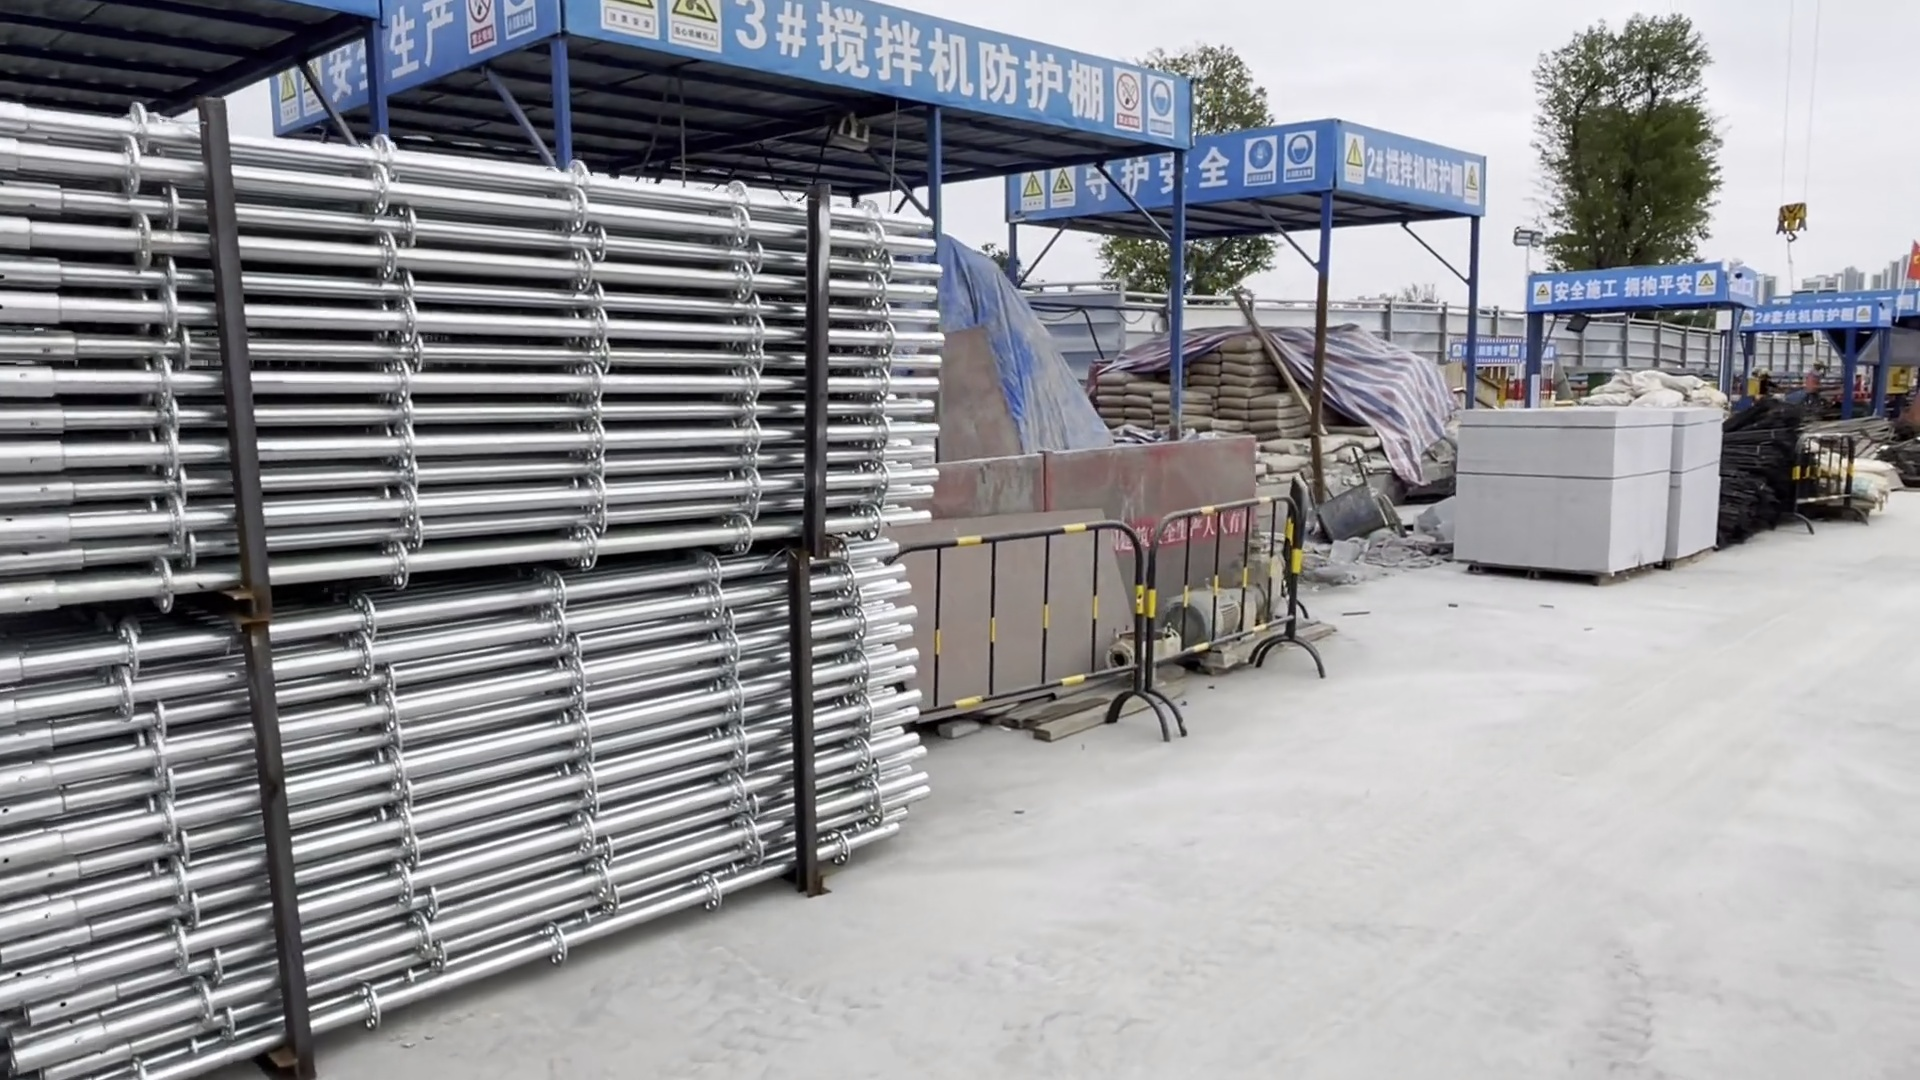brick: (1453, 405, 1672, 583), (1659, 400, 1722, 564)
scaffold: (17, 545, 916, 1080), (1, 121, 938, 618)
slogan: (998, 135, 1325, 211), (1524, 261, 1706, 307)
